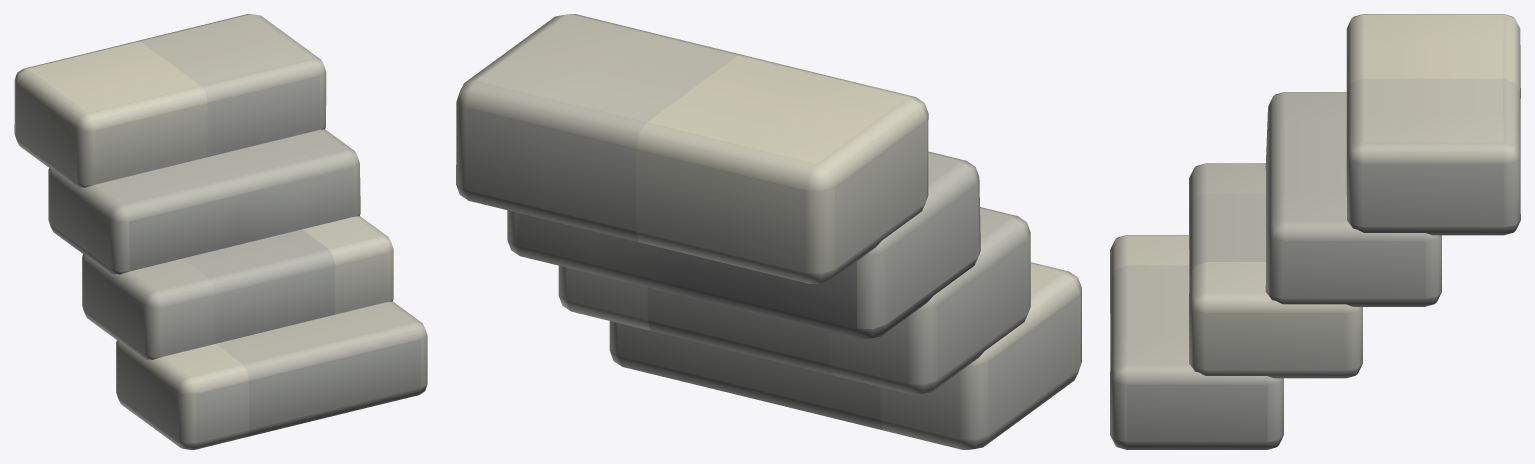
The model's file is stair_stone1_floating_LOD_setup.fbx.
3 views of the same model, side by side, from view 1: azimuth 30°, elevation 25°; view 2: azimuth 150°, elevation 25°; view 3: azimuth 270°, elevation 25° (orthographic). The views are drawn at different scales.
Parts seen in each view (by area): view 1: stair_stone1_floating_LOD0; view 2: stair_stone1_floating_LOD0; view 3: stair_stone1_floating_LOD0.
Part boxes in pixels (box(x1,y1,x2,y2)): stair_stone1_floating_LOD0: box(14, 14, 427, 449); stair_stone1_floating_LOD0: box(456, 14, 1081, 449); stair_stone1_floating_LOD0: box(1110, 14, 1520, 449).
Size of what is drawn, in the model's own units: 106 by 107 by 130.
